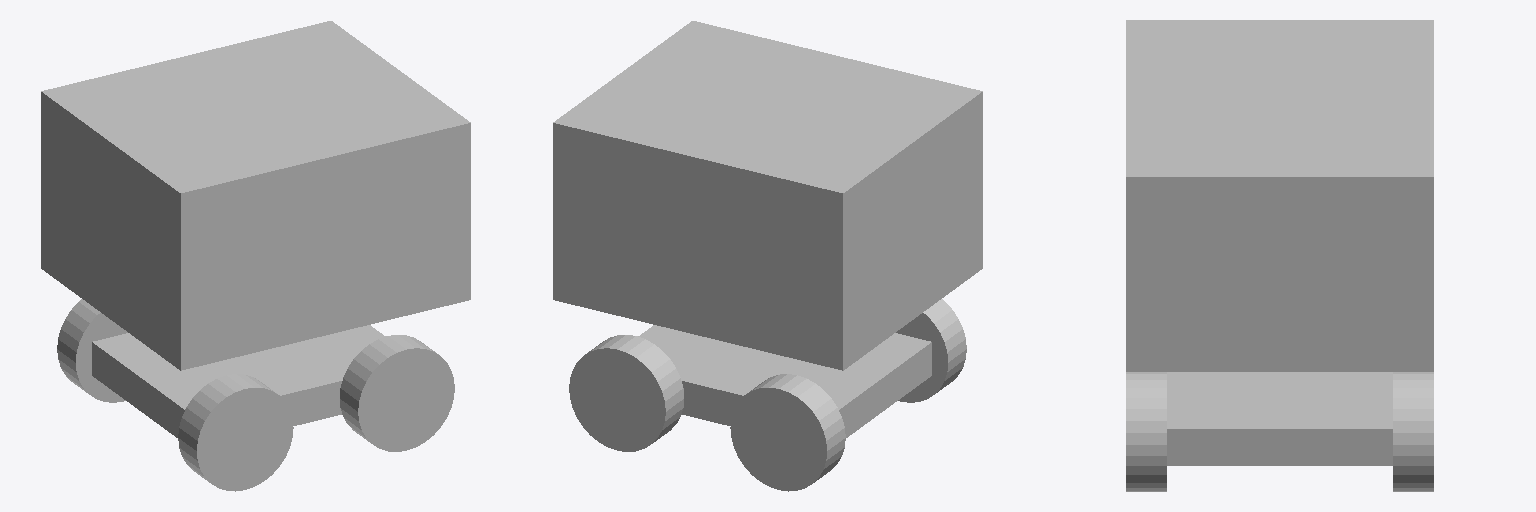
URDF robot description (adns_robot):
<robot name="adns_robot">
    <gazebo>
        <plugin name="differential_controller" filename="libadns_robot_sim_differential_controller.so">
            <namespace>/adns_robot</namespace>
            <topic>/adns_robot/drive_velocity</topic>
            <left_drive_joint>f_l_joint</left_drive_joint>
            <left_drive_joint>b_l_joint</left_drive_joint>
            <right_drive_joint>f_r_joint</right_drive_joint>
            <right_drive_joint>b_r_joint</right_drive_joint>
            <max_force>10.0</max_force>
        </plugin>
    </gazebo>

    <material name="grey">
        <color rgba="0.8 0.8 0.8 1" />
    </material>

    <link name="base_link">
        <collision>
            <geometry>
                <box size="0.3556 0.2794 0.0508" />
            </geometry>
        </collision>

        <visual>
            <geometry>
                <box size="0.3556 0.2794 0.0508" />
            </geometry>
            <material name="grey" />
        </visual>

        <inertial>
            <mass value="10" />
            <inertia
                ixx="1.0" ixy="0.0" ixz="0.0"
                iyy="1.0" iyz="0.0"
                izz="1.0" />
        </inertial>
    </link>

    <link name="container">
        <collision>
            <geometry>
                <box size="0.4572 0.381 0.2667" />
            </geometry>
        </collision>

        <visual>
            <geometry>
                <box size="0.4572 0.381 0.2667" />
            </geometry>
            <material name="grey" />
        </visual>

        <inertial>
            <mass value="30" />
            <inertia
                ixx="1.0" ixy="0.0" ixz="0.0"
                iyy="1.0" iyz="0.0"
                izz="1.0" />
        </inertial>
    </link>

    <link name="f_l_wheel">
        <collision>
            <origin xyz="0 0 0" rpy="1.5708 0 0" />
            <geometry>
                <cylinder length="0.0508" radius="0.0762" />
            </geometry>
        </collision>

        <visual>                        
            <origin xyz="0 0 0" rpy="1.5708 0 0" />
            <geometry>
                <cylinder length="0.0508" radius="0.0762" />
            </geometry>
            <material name="grey" />
        </visual>

        <inertial>
            <mass value="0.5" />
            <inertia
                ixx="1.0" ixy="0.0" ixz="0.0"
                iyy="1.0" iyz="0.0"
                izz="1.0" />
        </inertial>
    </link>

    <link name="f_r_wheel">
        <collision>
            <origin xyz="0 0 0" rpy="-1.5708 0 0" />
            <geometry>
                <cylinder length="0.0508" radius="0.0762" />
            </geometry>
        </collision>

        <visual>                        
            <origin xyz="0 0 0" rpy="1.5708 0 0" />
            <geometry>
                <cylinder length="0.0508" radius="0.0762" />
            </geometry>
            <material name="grey" />
        </visual>

        <inertial>
            <mass value="0.5" />
            <inertia
                ixx="1.0" ixy="0.0" ixz="0.0"
                iyy="1.0" iyz="0.0"
                izz="1.0" />
        </inertial>
    </link>

    <link name="b_l_wheel">
        <collision>
            <origin xyz="0 0 0" rpy="1.5708 0 0" />
            <geometry>
                <cylinder length="0.0508" radius="0.0762" />
            </geometry>
        </collision>

        <visual>                        
            <origin xyz="0 0 0" rpy="1.5708 0 0" />
            <geometry>
                <cylinder length="0.0508" radius="0.0762" />
            </geometry>
            <material name="grey" />
        </visual>

        <inertial>
            <mass value="0.5" />
            <inertia
                ixx="1.0" ixy="0.0" ixz="0.0"
                iyy="1.0" iyz="0.0"
                izz="1.0" />
        </inertial>
    </link>

    <link name="b_r_wheel">
        <collision>
            <origin xyz="0 0 0" rpy="-1.5708 0 0" />
            <geometry>
                <cylinder length="0.0508" radius="0.0762" />
            </geometry>
        </collision>

        <visual>                        
            <origin xyz="0 0 0" rpy="-1.5708 0 0" />
            <geometry>
                <cylinder length="0.0508" radius="0.0762" />
            </geometry>
            <material name="grey" />
        </visual>

        <inertial>
            <mass value="0.5" />
            <inertia
                ixx="1.0" ixy="0.0" ixz="0.0"
                iyy="1.0" iyz="0.0"
                izz="1.0" />
        </inertial>
    </link>

    <link name="tilt_bracket">
    </link>

    <link name="camera">
    </link>

    <joint name="standoffs" type="fixed">
        <parent link="base_link" />
        <child link="container" />
        <axis xyz="0 1 0" />
        <origin xyz="0 0 0.26035" />
    </joint>

    <joint name="f_l_joint" type="continuous">
        <parent link="base_link" />
        <child link="f_l_wheel" />
        <axis xyz="0 1 0" />
        <origin xyz="0.127 0.1651 0" />
    </joint>

    <joint name="f_r_joint" type="continuous">
        <parent link="base_link" />
        <child link="f_r_wheel" />
        <axis xyz="0 1 0" />
        <origin xyz="0.127 -0.1651 0" />
    </joint>

    <joint name="b_l_joint" type="continuous">
        <parent link="base_link" />
        <child link="b_l_wheel" />
        <axis xyz="0 1 0" />
        <origin xyz="-0.127 0.1651 0" />
    </joint>

    <joint name="b_r_joint" type="continuous">
        <parent link="base_link" />
        <child link="b_r_wheel" />
        <axis xyz="0 1 0" />
        <origin xyz="-0.127 -0.1651 0" />
    </joint>

    <joint name="pan_servo_joint" type="revolute">
        <parent link="container" />
        <child link="tilt_bracket" />
        <axis xyz="0 0 1" />
        <origin xyz="0 0 0.1397" />
        <limit lower="-1.28" upper="1.28" effort="0" velocity="0" />
    </joint>

    <joint name="tilt_servo_joint" type="revolute">
        <parent link="tilt_bracket" />
        <child link="camera" />
        <axis xyz="0 1 0" />
        <origin xyz="0 0 0.02" />
        <limit lower="-2.56" upper="0" effort="0" velocity="0" />
    </joint>

</robot>

--- Render facts (derived) ---
The picture shows the robot from 3 angles, left to right: view 1: azimuth 30°, elevation 25°; view 2: azimuth 150°, elevation 25°; view 3: azimuth 270°, elevation 25°; orthographic projection.
Robot: adns_robot — 8 links, 7 joints (2 revolute, 4 continuous, 1 fixed); root link base_link; default pose: all joints at 0.
Visible links, largest first — view 1: container, base_link, b_r_wheel, f_r_wheel, b_l_wheel; view 2: container, base_link, b_l_wheel, f_l_wheel, b_r_wheel; view 3: container, base_link, f_l_wheel, f_r_wheel.
Link boxes in pixels (<box>): container: <box>41,21,470,370</box>; base_link: <box>92,325,385,437</box>; b_r_wheel: <box>178,374,293,491</box>; f_r_wheel: <box>340,335,454,451</box>; b_l_wheel: <box>57,299,127,402</box>; container: <box>553,21,982,370</box>; base_link: <box>638,325,931,437</box>; b_l_wheel: <box>730,374,845,491</box>; f_l_wheel: <box>569,335,683,451</box>; b_r_wheel: <box>896,299,966,402</box>; container: <box>1126,20,1433,371</box>; base_link: <box>1167,372,1392,465</box>; f_l_wheel: <box>1393,372,1433,491</box>; f_r_wheel: <box>1126,372,1166,491</box>.
Size in the robot's own frame: 0.4572 by 0.381 by 0.4699 metres.
Geometry: primitives only (box / cylinder / sphere), no mesh files.